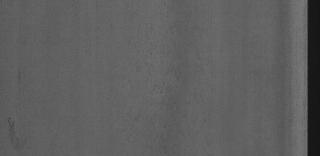silk spot: (110, 22, 218, 150)
water spot: (6, 113, 38, 155)
